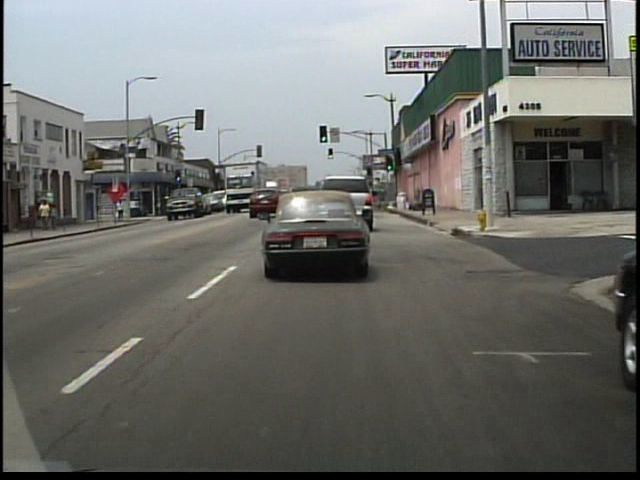person: (41, 196, 53, 228), (52, 203, 62, 231), (116, 199, 127, 222)
